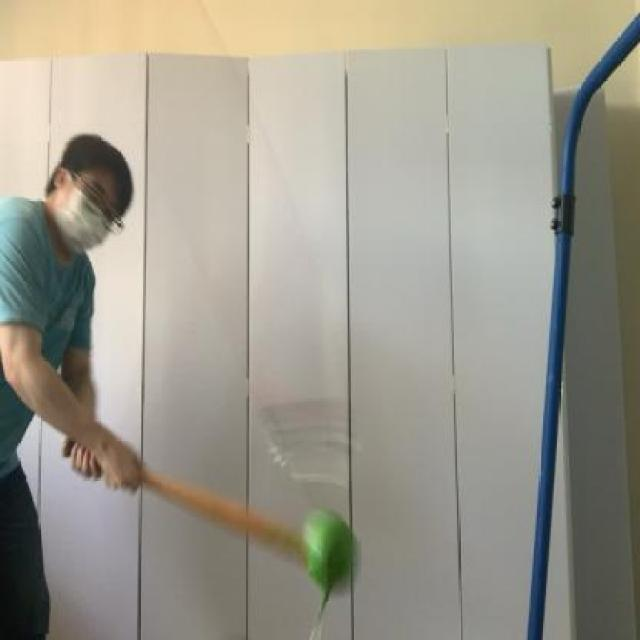baseball: (295, 509, 371, 594)
